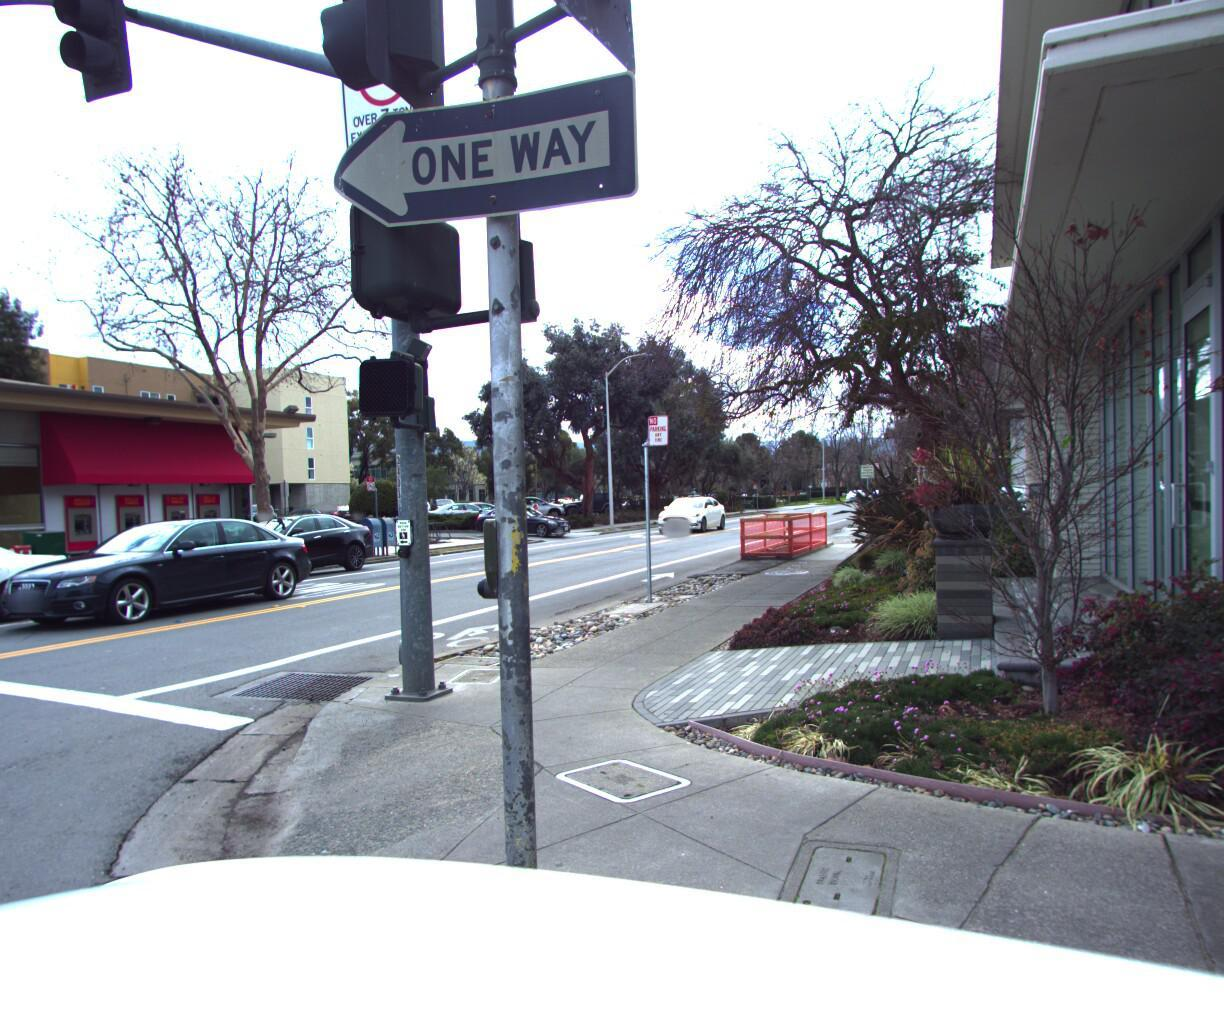car: (0, 509, 325, 637), (173, 505, 391, 583), (0, 523, 84, 679), (652, 483, 736, 527), (472, 500, 579, 534), (427, 492, 505, 520), (492, 486, 565, 514), (557, 484, 619, 508)
